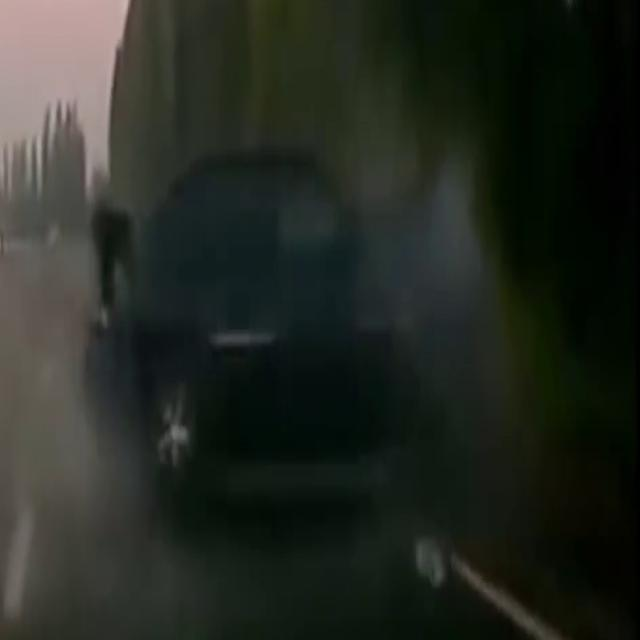accident: (68, 80, 492, 531)
